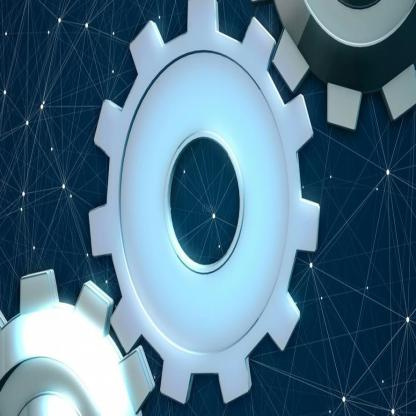FOD: (83, 0, 322, 410)
